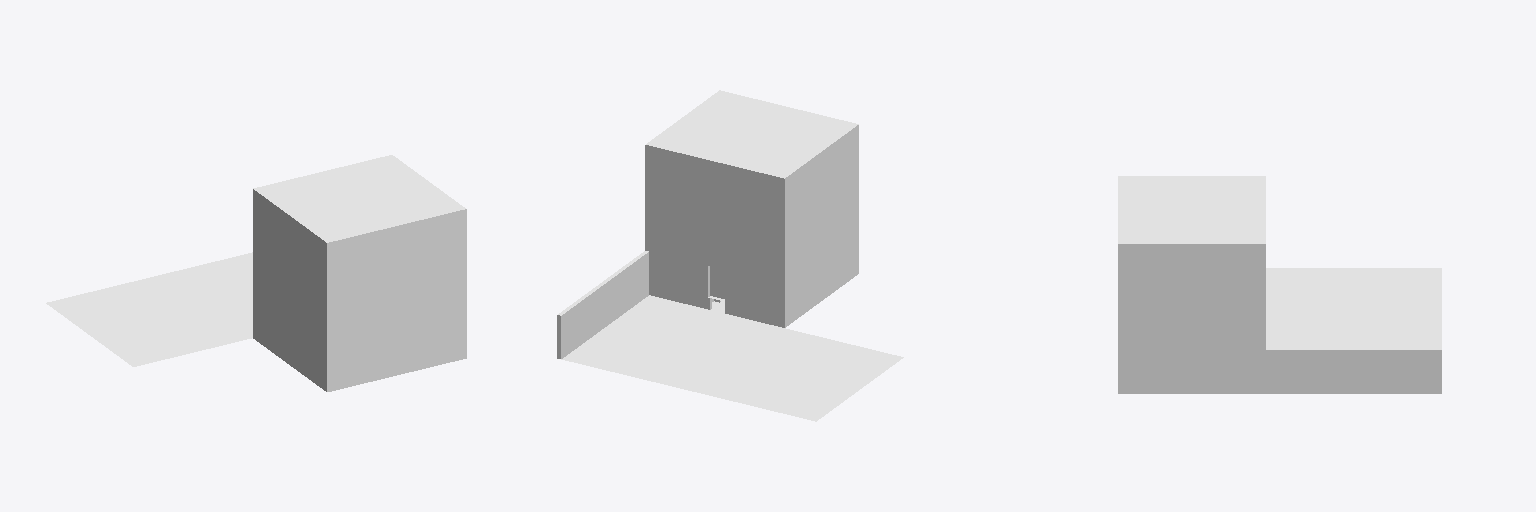
The model's file is Shop.obj.
The picture shows the model from 3 angles: view 1: azimuth 30°, elevation 25°; view 2: azimuth 150°, elevation 25°; view 3: azimuth 270°, elevation 25°; orthographic projection.
Visible parts, largest first — view 1: UModeler Object; view 2: UModeler Object; view 3: UModeler Object.
Boxes of the visible parts, box(x1,y1,x2,y2) form: UModeler Object: box(46, 155, 466, 391); UModeler Object: box(557, 90, 903, 421); UModeler Object: box(1118, 176, 1441, 393).
Size of the model in its own units: 68.18 by 37.63 by 73.99.